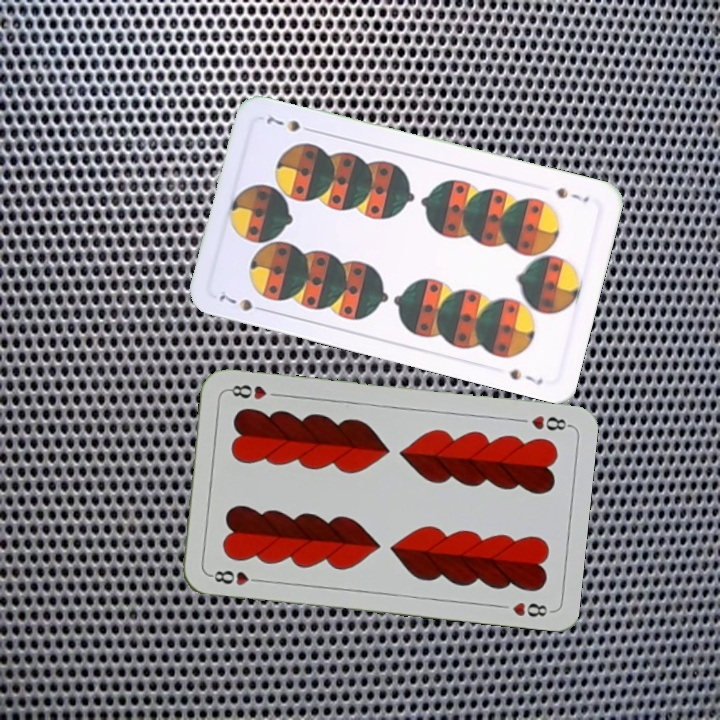H8: (206, 566, 265, 588), (527, 411, 572, 433)
S7: (212, 288, 270, 315), (552, 183, 592, 205)
